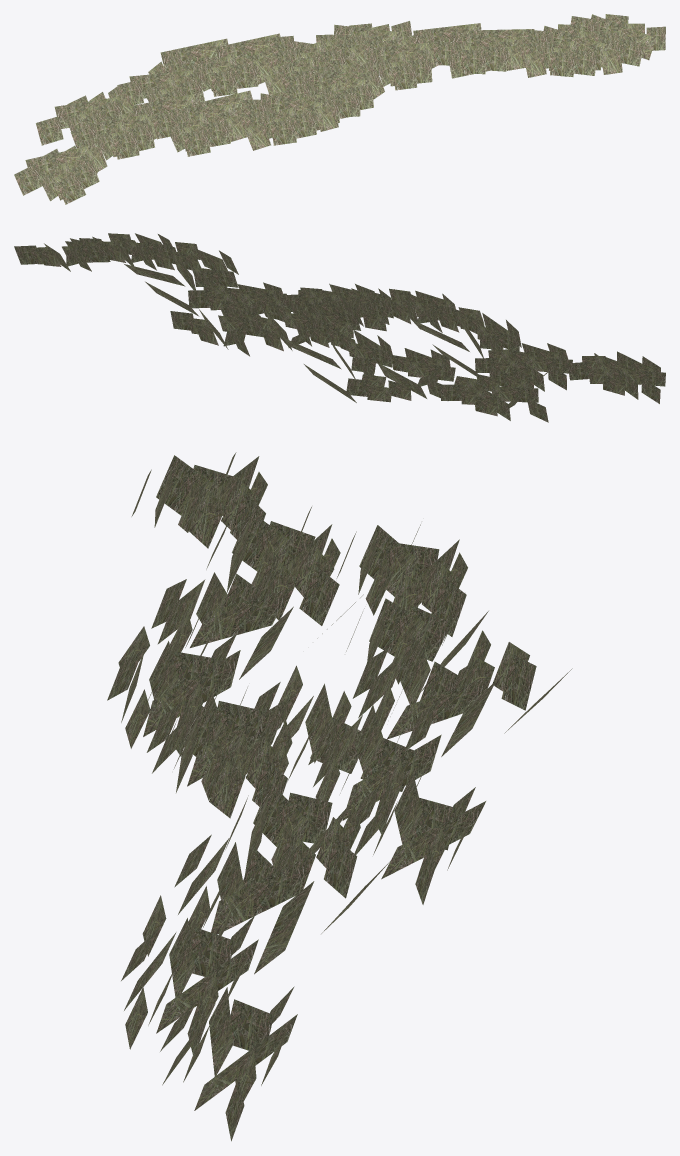
File: Grass.fbx
The picture shows the model from 3 angles, top to bottom: view 1: azimuth 30°, elevation 25°; view 2: azimuth 150°, elevation 25°; view 3: azimuth 270°, elevation 25°; orthographic projection. The views are drawn at different scales.
Visible parts, largest first — view 1: Grass; view 2: Grass; view 3: Grass.
Boxes of the visible parts, x1,y1,x2,y2 form: Grass: (14,14,665,204); Grass: (14,233,665,422); Grass: (107,452,572,1141).
Bounding box in the file's own units: 12.68 × 1.08 × 3.97.
